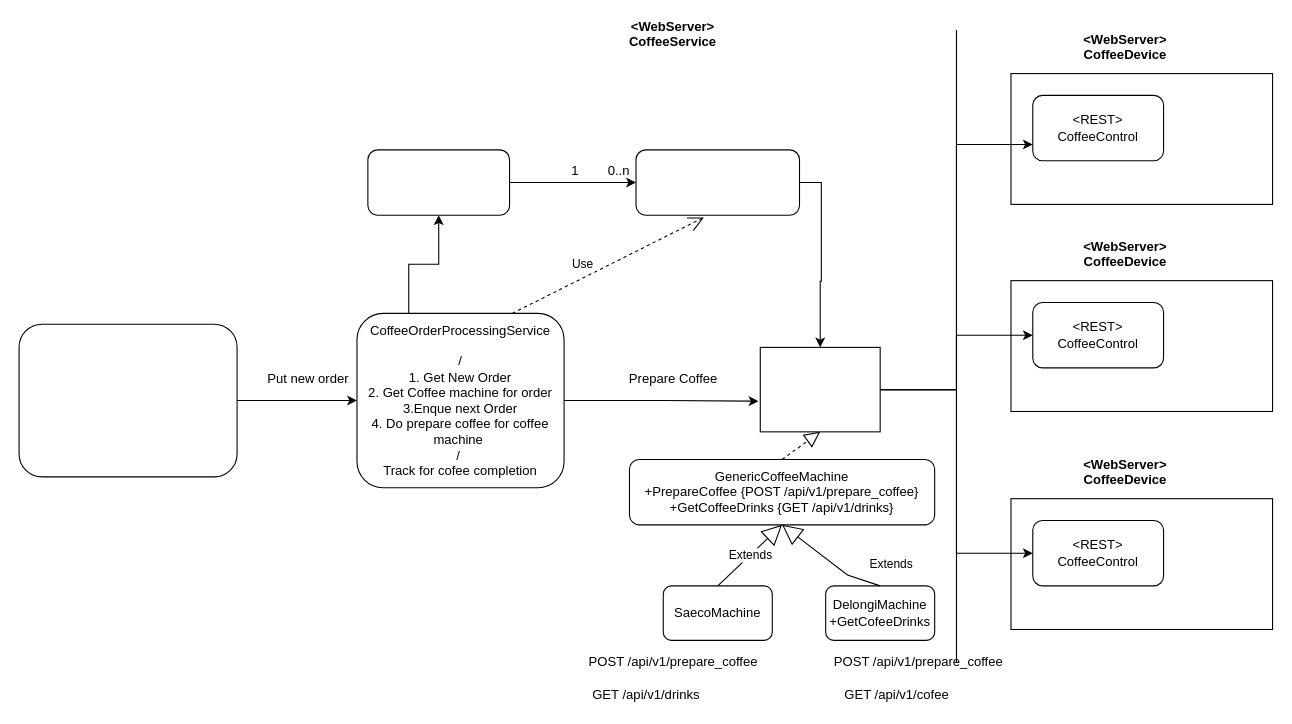
Some shapes in this 1292 by 724 pixel diagram are drawn without their labels. Each missing label, with the centre of its shape:
"CofeeMachineManager" goes at point 438,182.
"CoffeeMachine" goes at point 717,182.
"CoffeeOrderService + CreateOrder + FindOrder +<Event>OnOrderCreated" goes at point 127,400.
"«interface» ICofeeControl +PrepareCoffe" goes at point 819,389.
